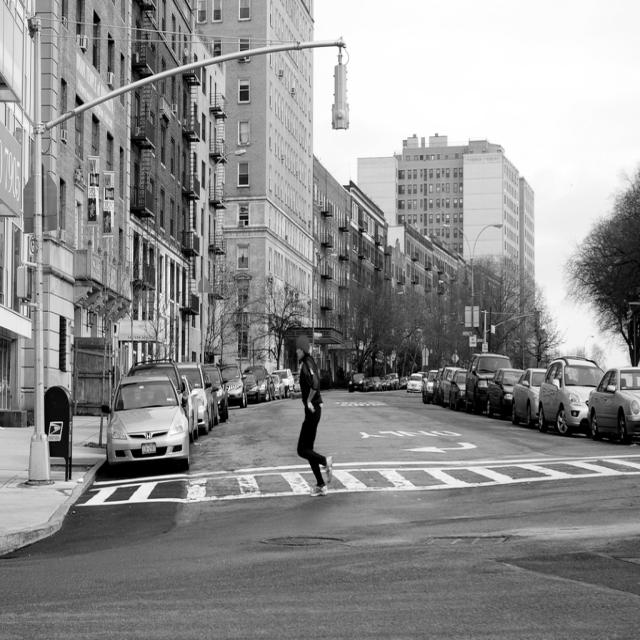car: (94, 365, 199, 476), (534, 348, 605, 431), (588, 369, 639, 451)
